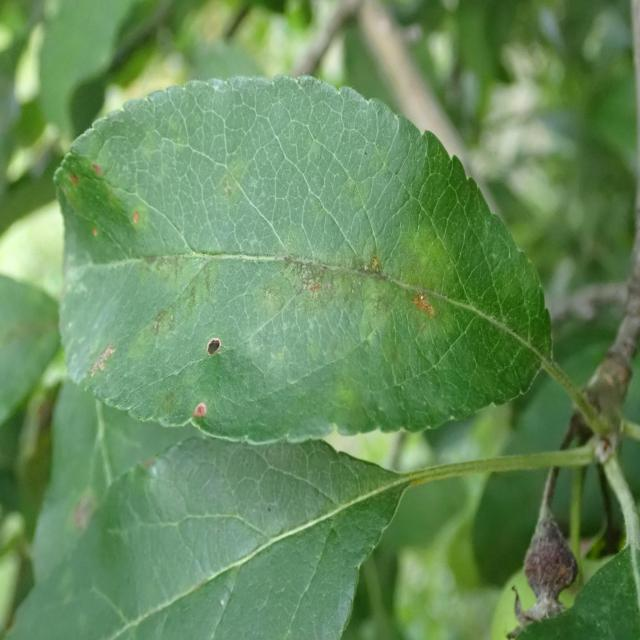scab: (42, 75, 540, 446)
